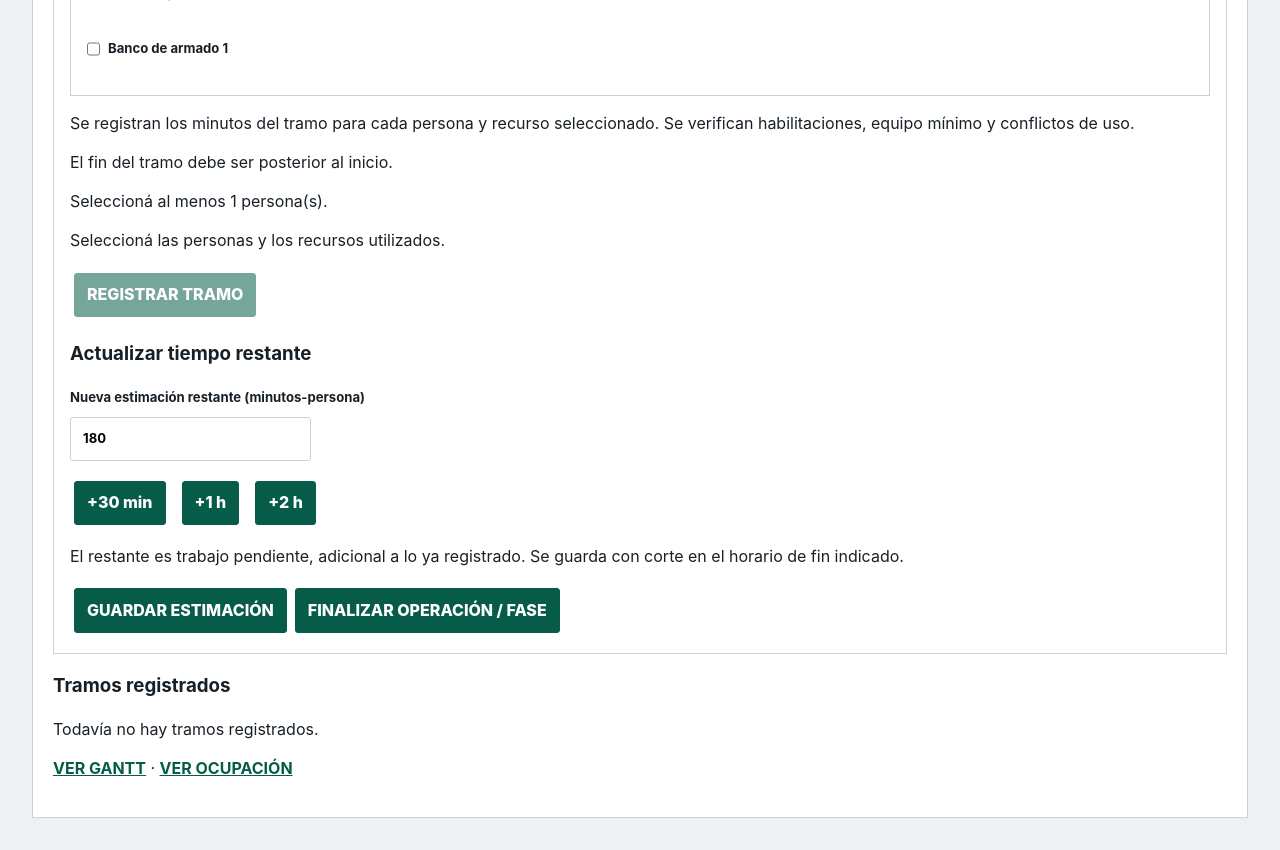
Scenario: aviso sigue el estado confirmado y se resuelve al publicar sin recargar
(page scrolled)
Expected: the heading "Actualizar tiempo restante" is shown, [70,342,312,365]
Expected: the text "planificación necesita revisión" is not shown
What coordinates should you click on to do the following:
click the button "GUARDAR ESTIMACIÓN"
I would click on:
 (180, 610)
Its box is [74,588,287,633].
(page scrolled)
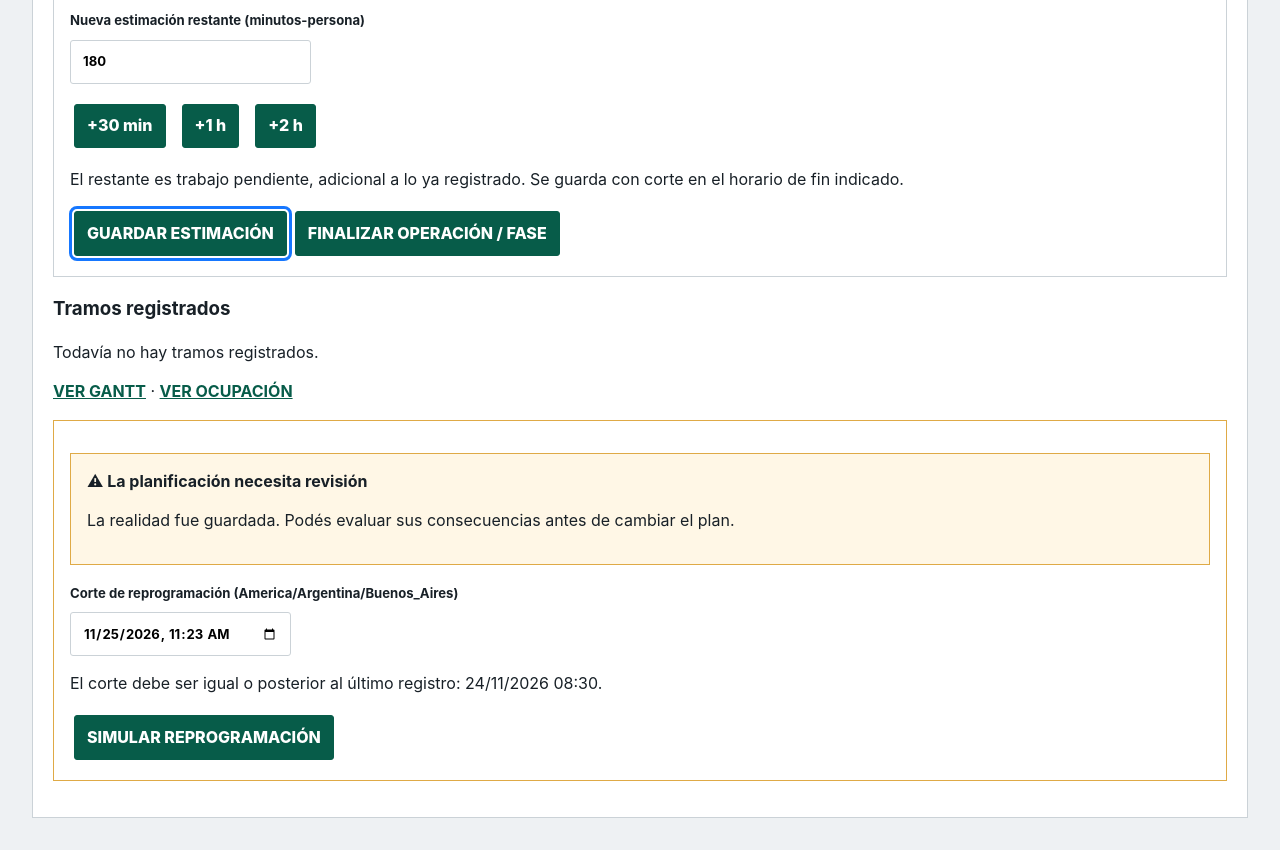
Result: the text "⚠ La planificación necesita revisión" is shown at [87,470,368,490]
What coordinates should you click on to do the following:
click the button "SIMULAR REPROGRAMACIÓN"
I would click on:
 (204, 738)
Its box is [74,715,334,760].
(page scrolled)
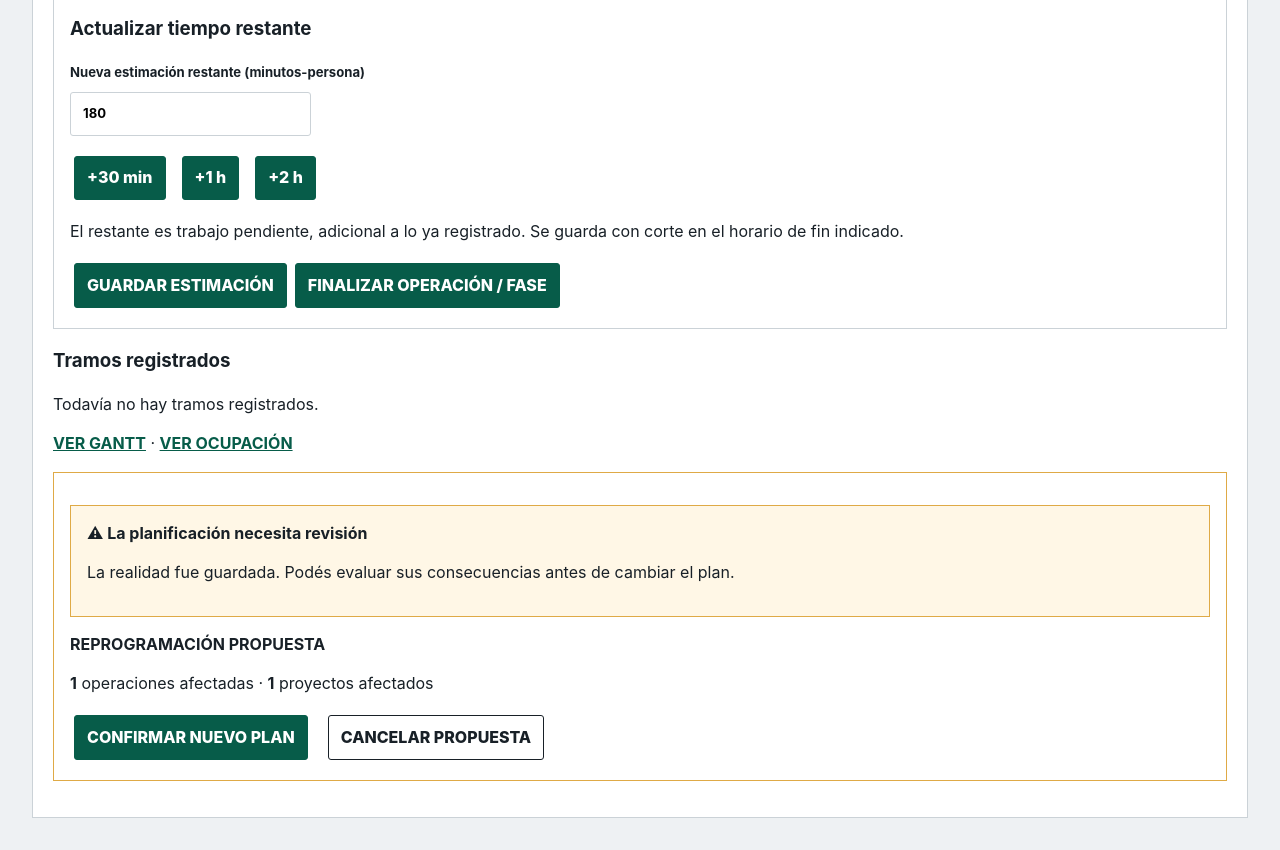
What coordinates should you click on to do the following:
click the button "CONFIRMAR NUEVO PLAN"
I would click on:
 (191, 738)
Its box is [74,715,308,760].
(page scrolled)
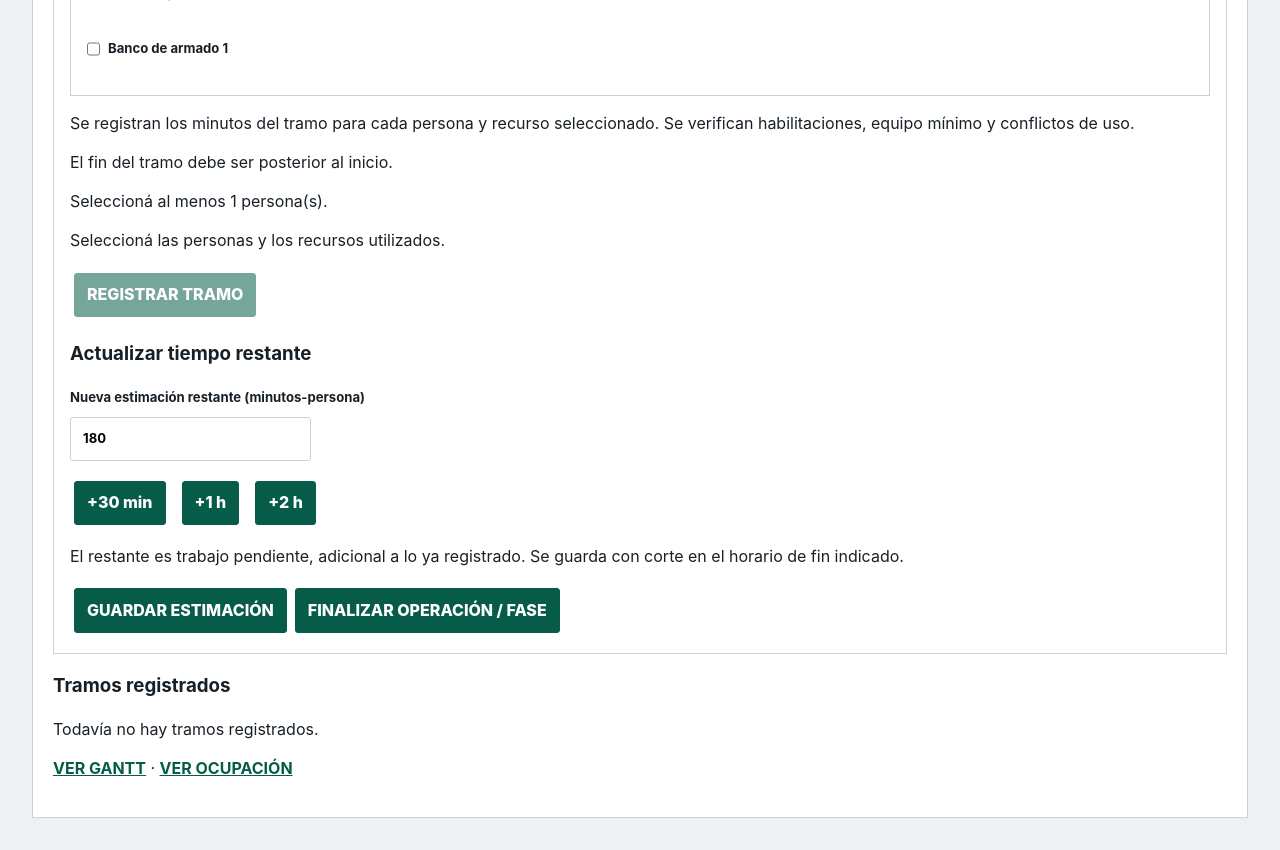
Result: the text "planificación necesita revisión" is gone
Another later change must still raise the warning in the same mounted page.
What coordinates should you click on to do the following:
click the button "GUARDAR ESTIMACIÓN"
I would click on:
 (180, 610)
Its box is [74,588,287,633].
(page scrolled)
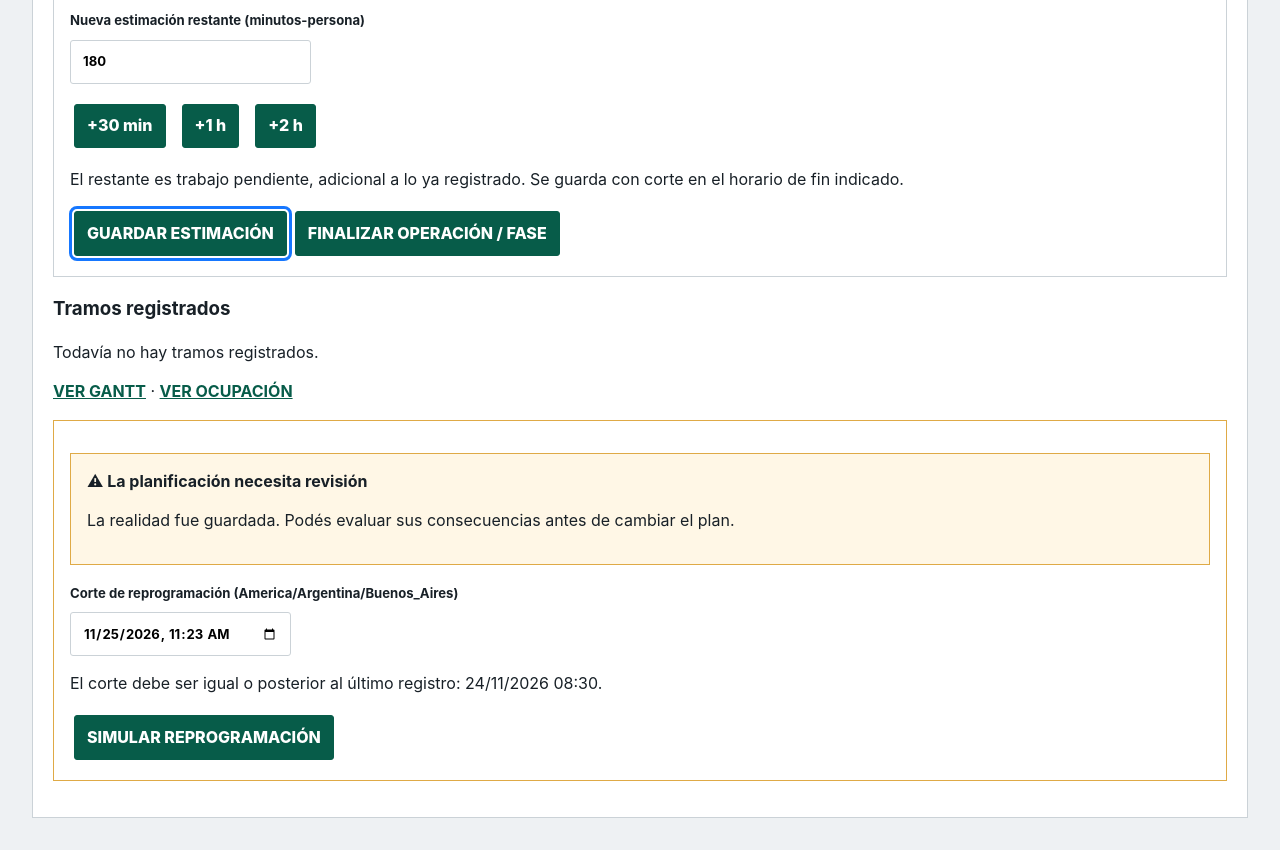
Result: the text "⚠ La planificación necesita revisión" is shown at [87,470,368,490]
